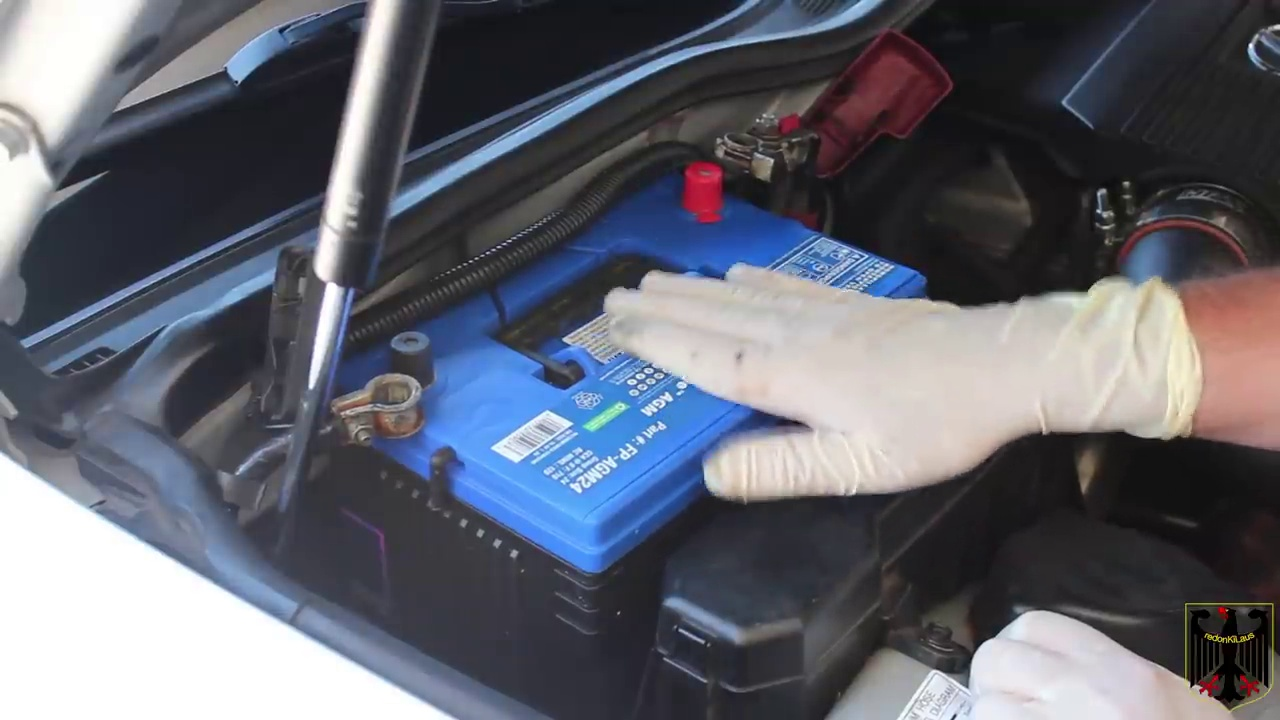battery: (325, 139, 922, 519)
pos_disconnected: (638, 33, 938, 234)
